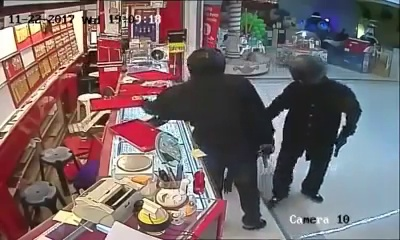helmet: (284, 54, 329, 87), (184, 44, 229, 76)
